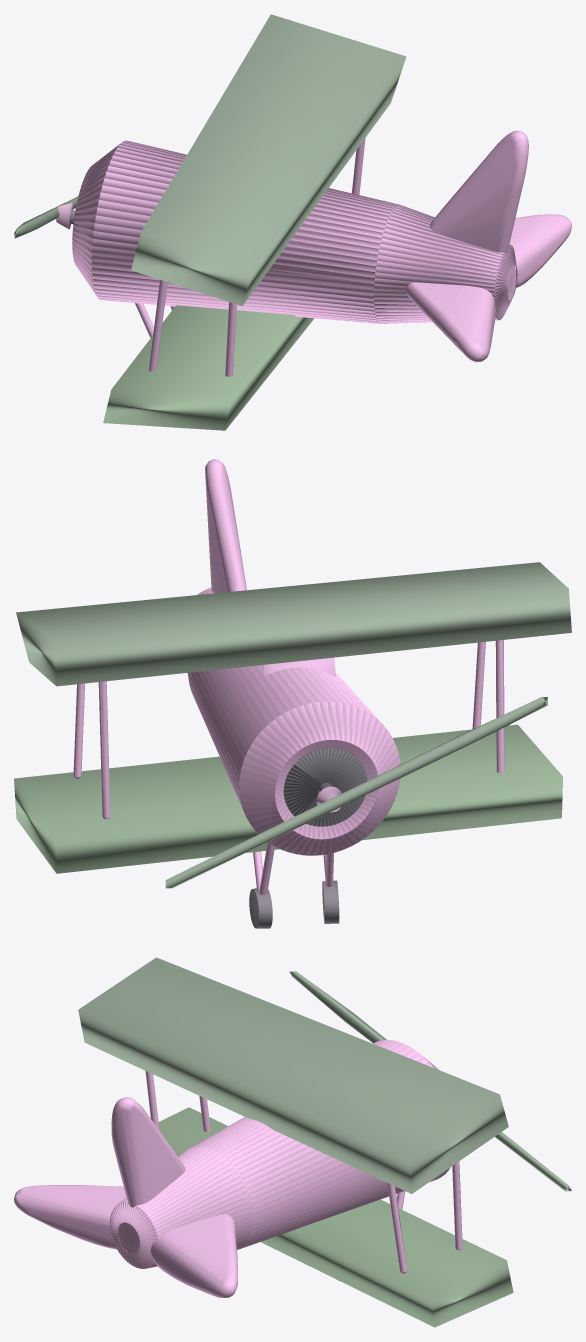
Rendered from airplane.fbx.
3 renders of one model, top to bottom at view 1: azimuth 30°, elevation 25°; view 2: azimuth 150°, elevation 25°; view 3: azimuth 270°, elevation 25°, orthographic. The views are drawn at different scales.
Visible parts, largest first — view 1: airplainenew; view 2: airplainenew; view 3: airplainenew.
Part boxes in pixels (x1,y1,x2,y2): airplainenew: (14, 14, 571, 430); airplainenew: (14, 459, 571, 928); airplainenew: (14, 957, 571, 1327).
Size of the model in its own units: 95.77 by 53.92 by 95.65.
